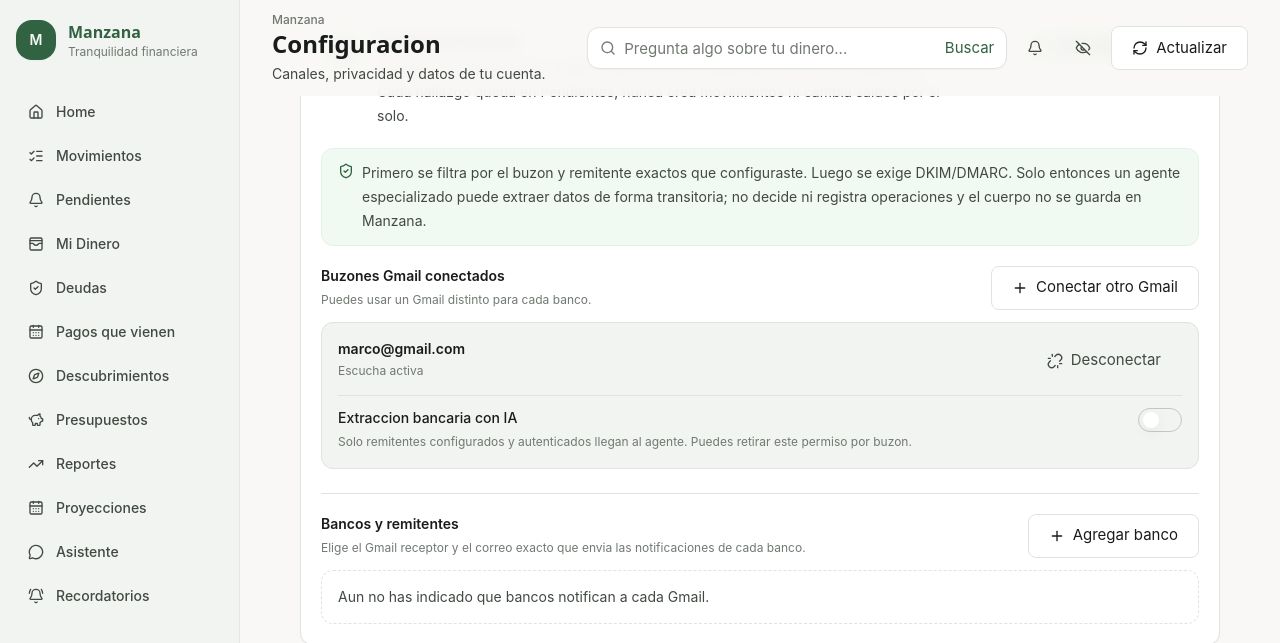
Test: settings reminders › exige confirmacion antes de desconectar Gmail
(page scrolled)
Click the button "Desconectar".
click(1104, 360)  # box [1026,338,1182,382]
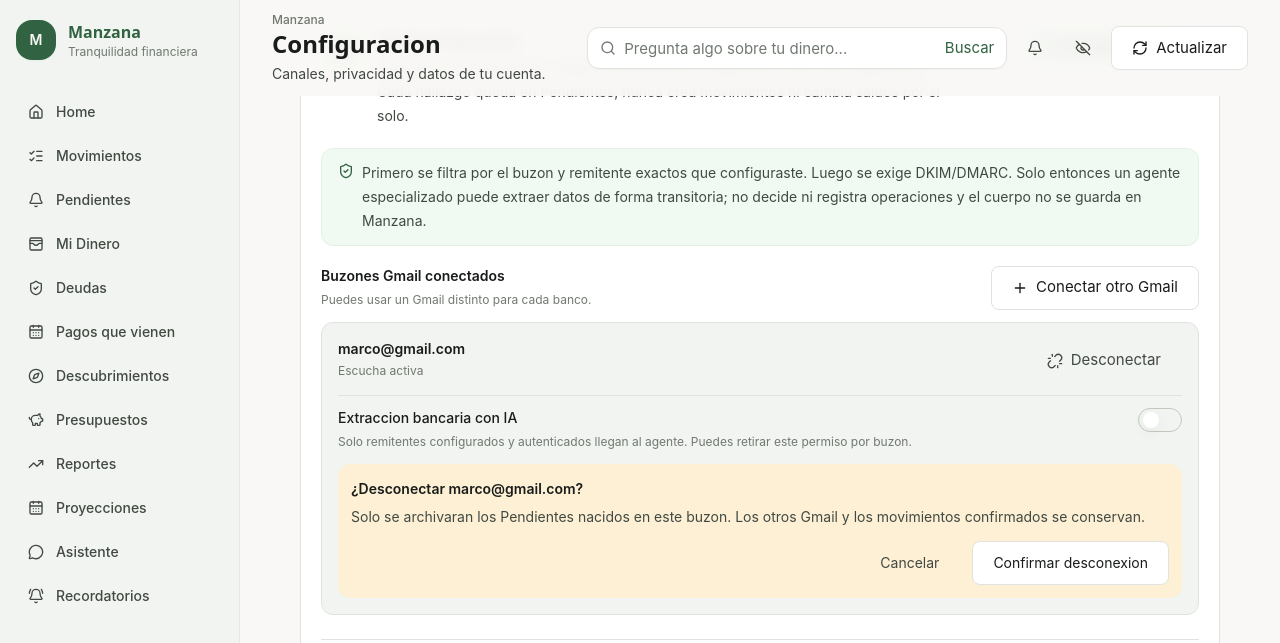
Check: the text "¿Desconectar marco@gmail.com?" is shown, box [351,480,583,496]
Click the button "Confirmar desconexion".
click(1071, 562)  # box [972,540,1169,584]
(page scrolled)
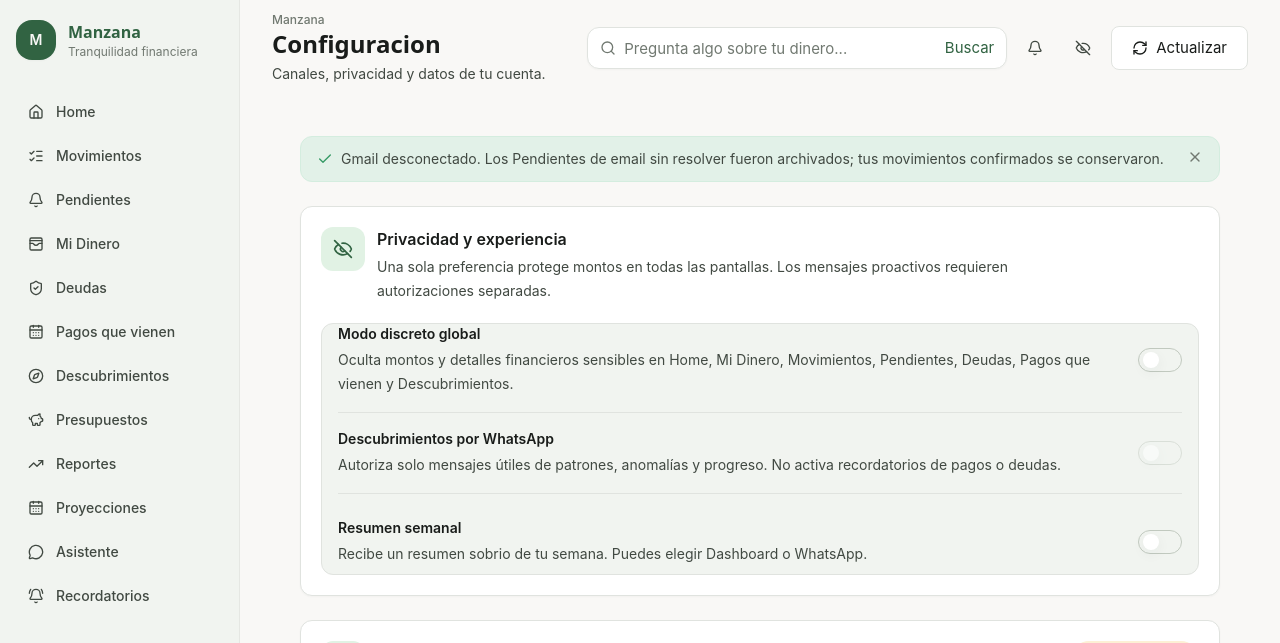
Check: the text "Gmail desconectado" is shown, box [341,150,1164,167]
